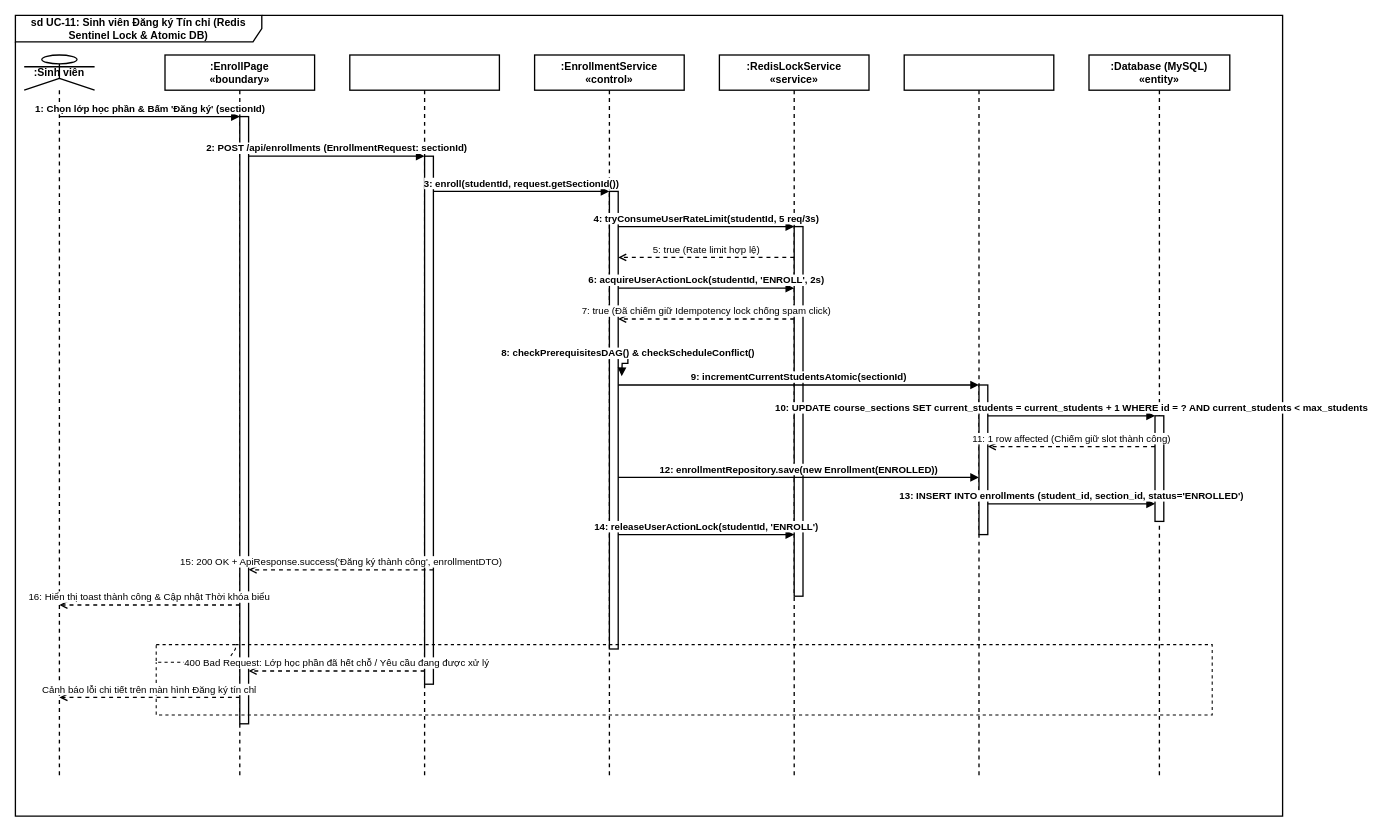
Image size: 1383x832. Some labels were removed from this diagram. Each missing label, with the box of its shape:
:CourseSectionRepo «control»: (903, 54, 1054, 777)
:EnrollmentController «control»: (349, 54, 500, 777)
opt [Lớp đã hết chỗ (rowsUpdated == 0) hoặc Spam click]: (155, 644, 1212, 715)
